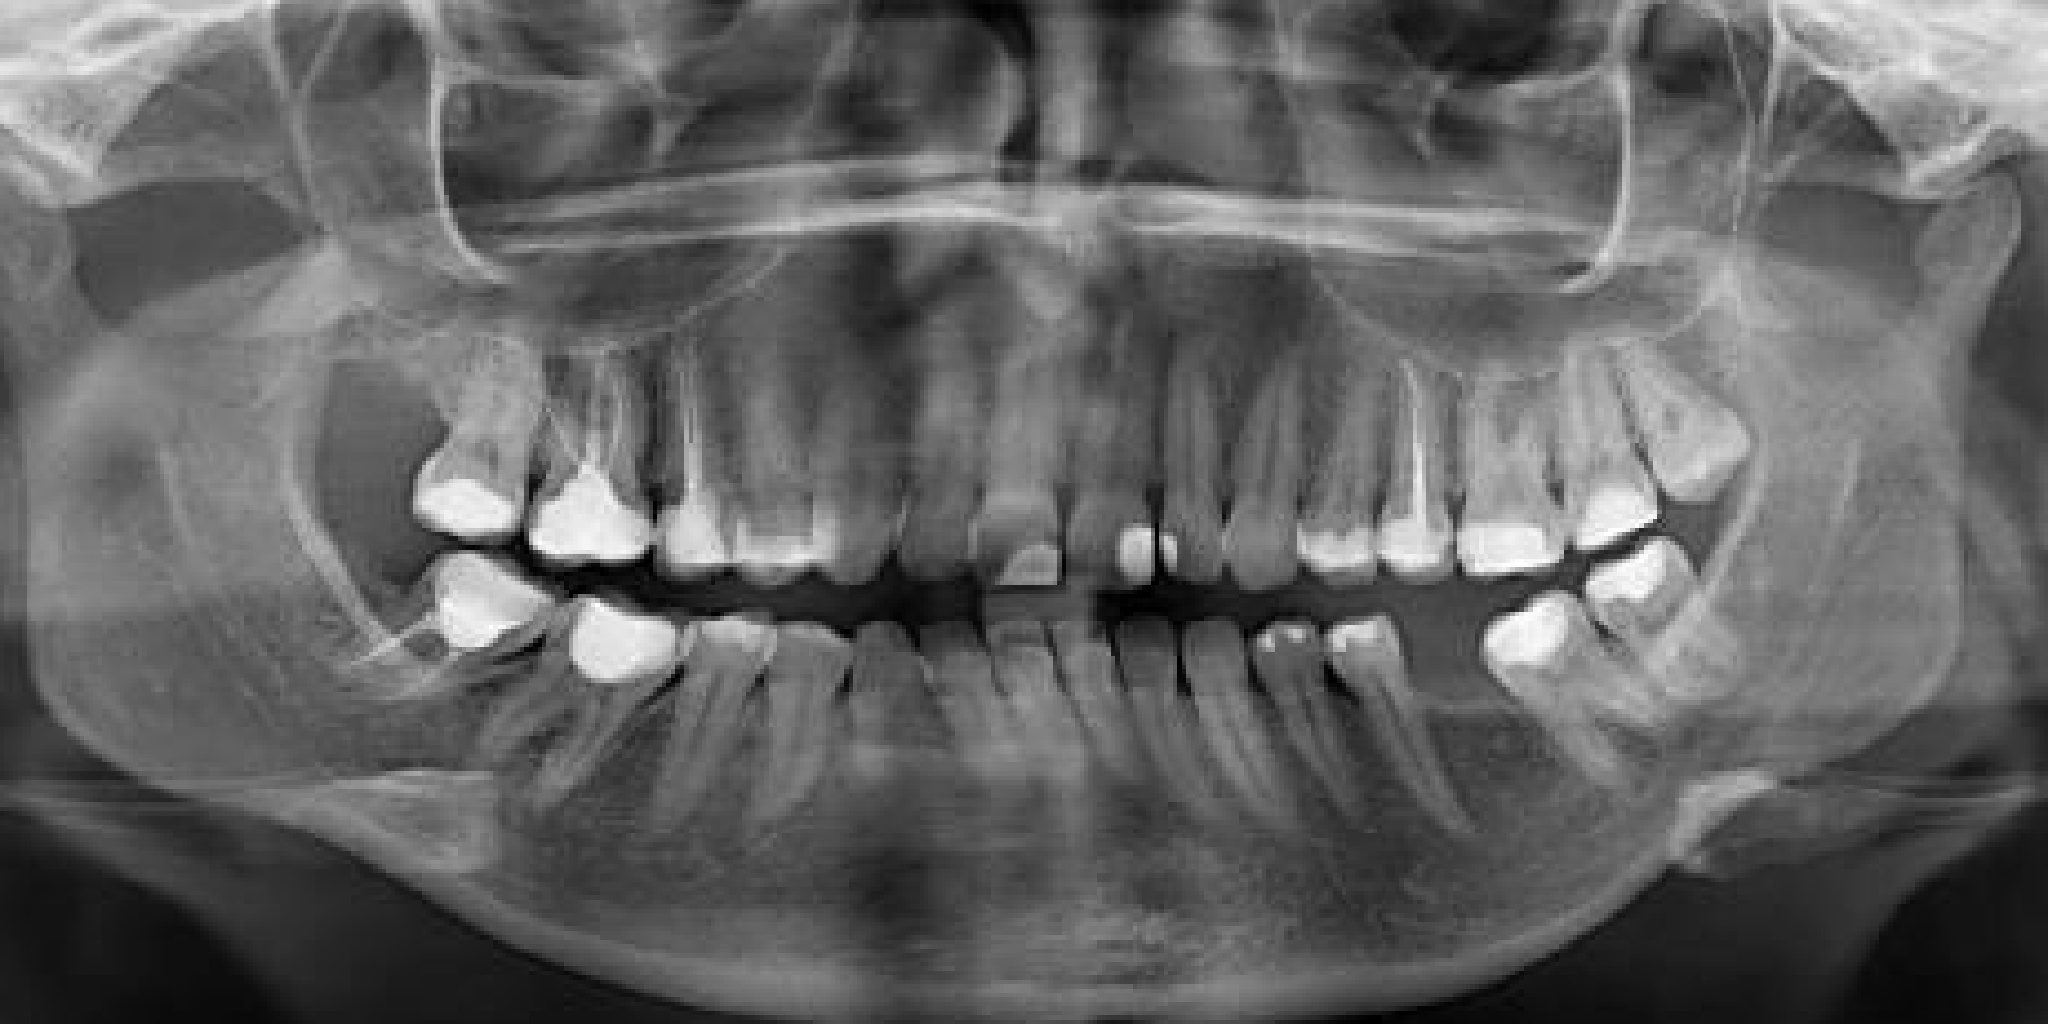Tooth: (286, 498, 594, 792), (443, 539, 712, 832), (1456, 556, 1699, 839), (602, 579, 794, 862), (1023, 286, 1179, 600), (1579, 277, 1772, 522), (516, 317, 671, 583), (1162, 602, 1324, 854), (1566, 511, 1750, 731), (1422, 328, 1574, 594), (711, 603, 862, 854), (402, 313, 559, 552), (1522, 317, 1671, 566), (788, 310, 914, 593), (707, 310, 831, 596), (1211, 330, 1335, 607), (630, 324, 748, 590), (1101, 606, 1236, 837), (1132, 298, 1237, 593), (1290, 346, 1411, 589), (1354, 336, 1469, 589), (906, 600, 1034, 806), (1038, 605, 1164, 812), (974, 601, 1096, 802), (822, 615, 926, 816)
